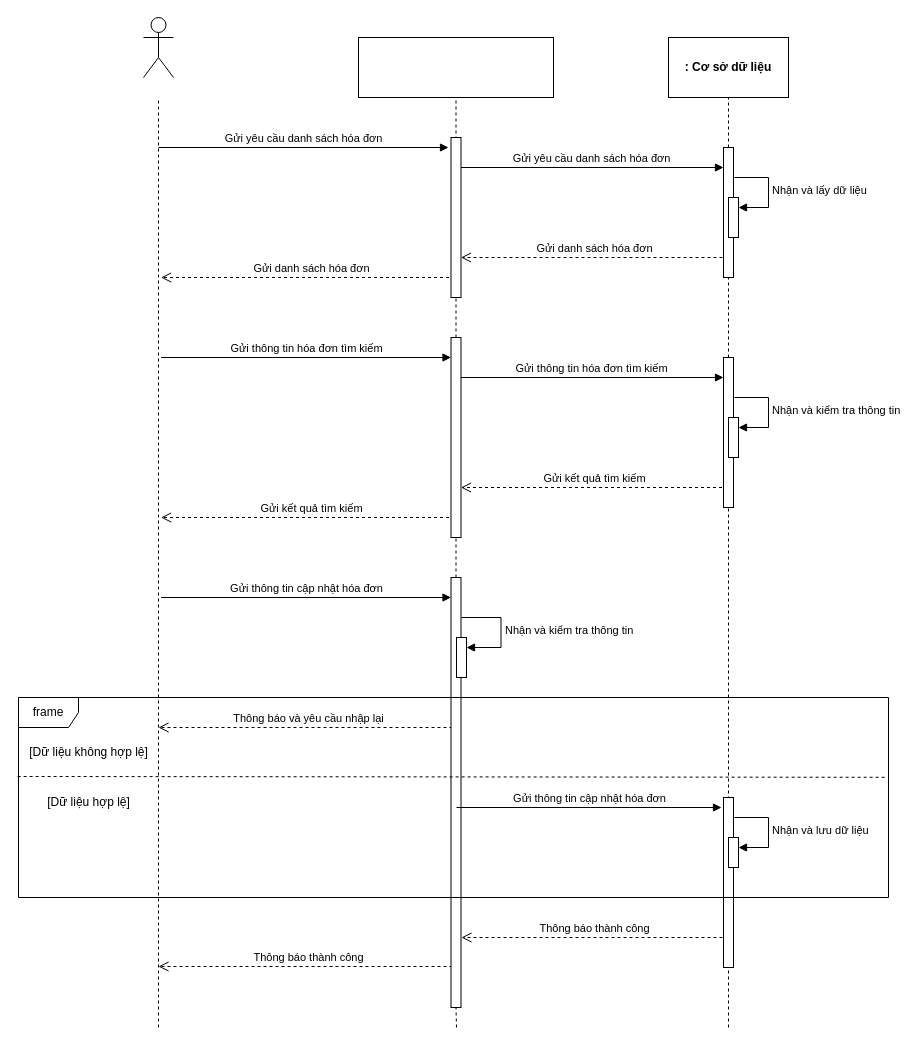
The diagram is 918 pixels wide and 1046 high, and some of its shapes have lost their labels. The centre of each missing label's shape, as x and y in pixels:
": Giao diện web quản lý hóa đơn" belongs at point (456, 67).
": Người dùng" belongs at point (158, 47).
